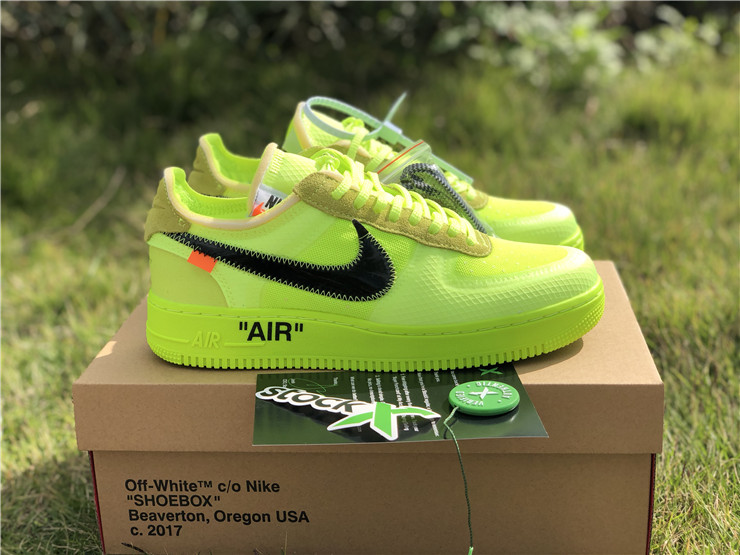Air Force One Volt: (133, 150, 619, 381)
